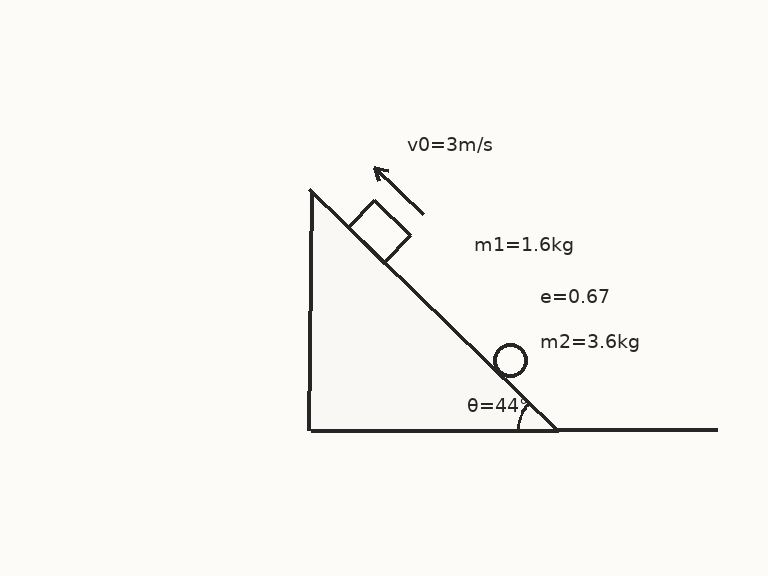ball: (491, 341, 529, 379)
block: (346, 198, 412, 264)
ramp: (307, 188, 560, 432)
